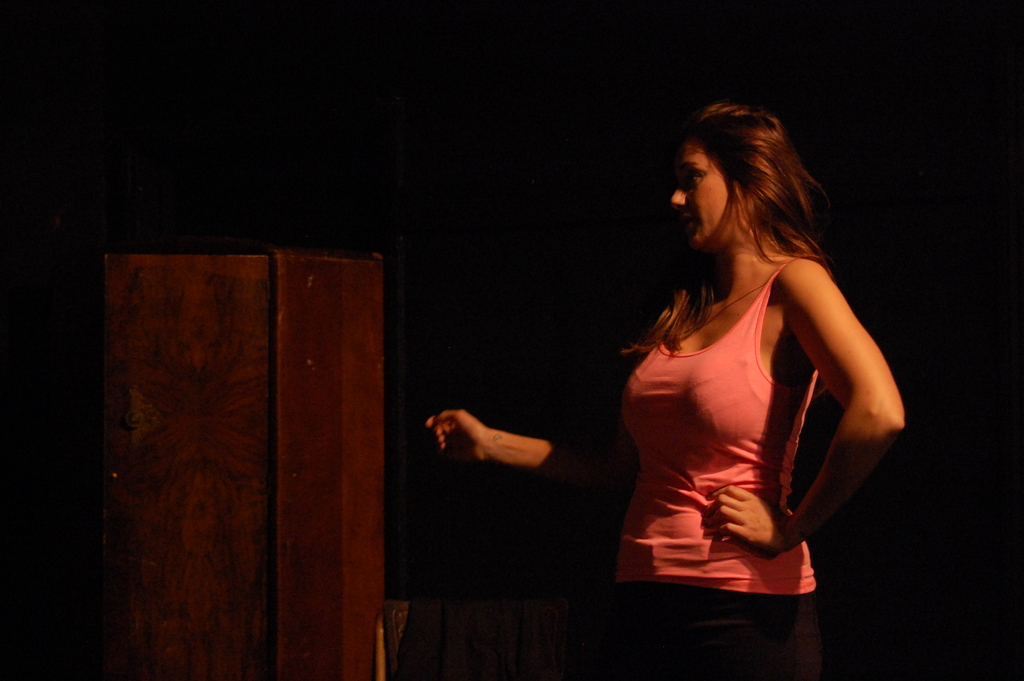Human_hand: (428, 406, 550, 477), (703, 482, 794, 557)
